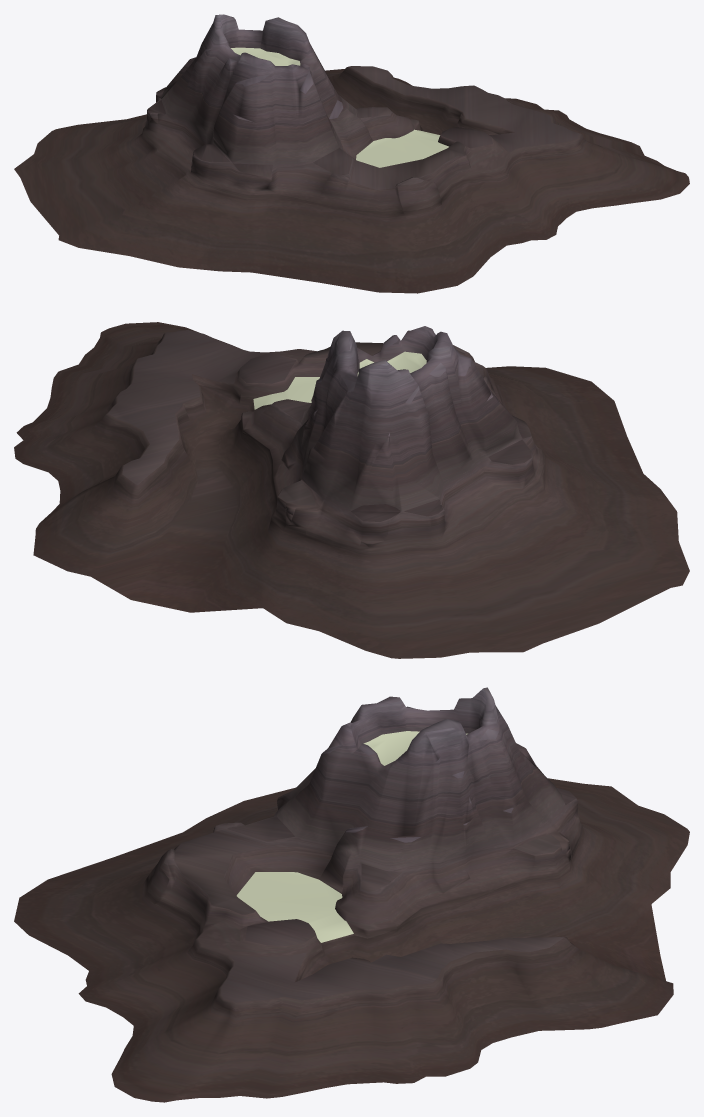
Rendered from Treasure_Map01.obj.
The picture shows the model from 3 angles, top to bottom: view 1: azimuth 30°, elevation 25°; view 2: azimuth 150°, elevation 25°; view 3: azimuth 270°, elevation 25°; orthographic projection. The views are drawn at different scales.
Parts seen in each view (by area): view 1: Object003, Cube2_copy4; view 2: Object003, Cube2_copy4; view 3: Object003, Cube2_copy4.
Part boxes in pixels (box(x1,y1,x2,y2)): Object003: box(14, 14, 689, 293); Cube2_copy4: box(231, 47, 448, 167); Object003: box(14, 322, 689, 658); Cube2_copy4: box(253, 351, 426, 409); Object003: box(14, 687, 689, 1102); Cube2_copy4: box(236, 731, 467, 942).
Bounding box in the file's own units: 45628 × 13421 × 38227.
